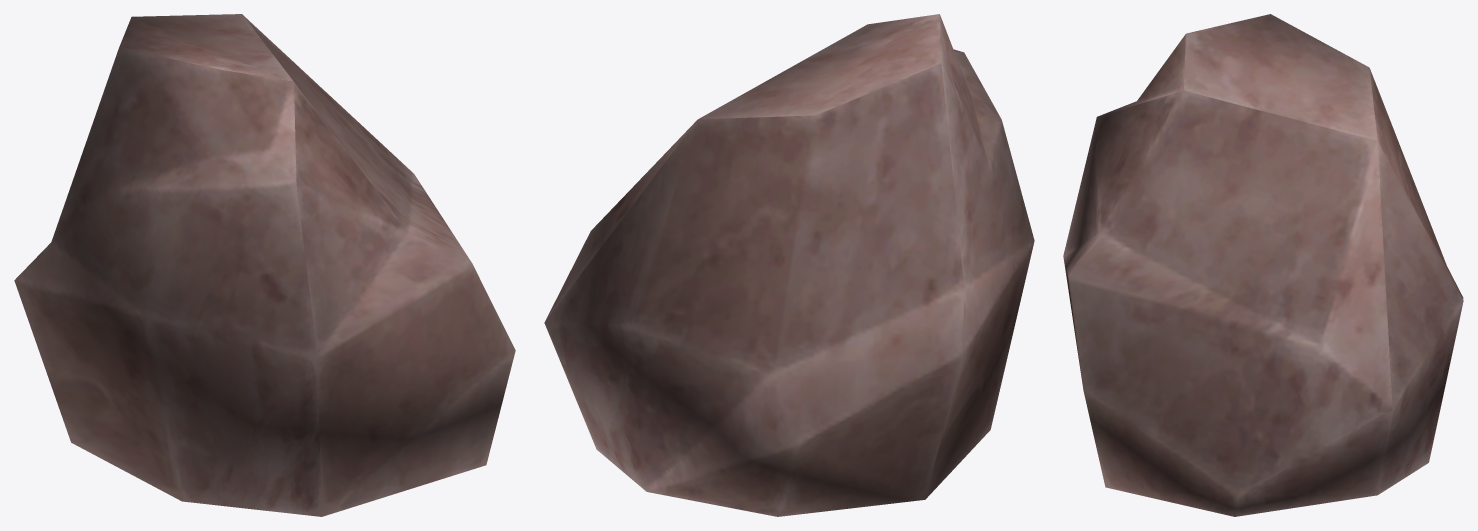
Rendered from Item_Ore_H.glb.
3 views of the same model, side by side, from view 1: azimuth 30°, elevation 25°; view 2: azimuth 150°, elevation 25°; view 3: azimuth 270°, elevation 25° (orthographic). The views are drawn at different scales.
Parts seen in each view (by area): view 1: Item_Ore_H; view 2: Item_Ore_H; view 3: Item_Ore_H.
Part boxes in pixels (<box>): Item_Ore_H: <box>14,14,515,516</box>; Item_Ore_H: <box>544,14,1034,516</box>; Item_Ore_H: <box>1063,14,1463,516</box>.
Bounding box in the file's own units: 0.4801 × 0.4632 × 0.4629.
1 material, 1 textured.
